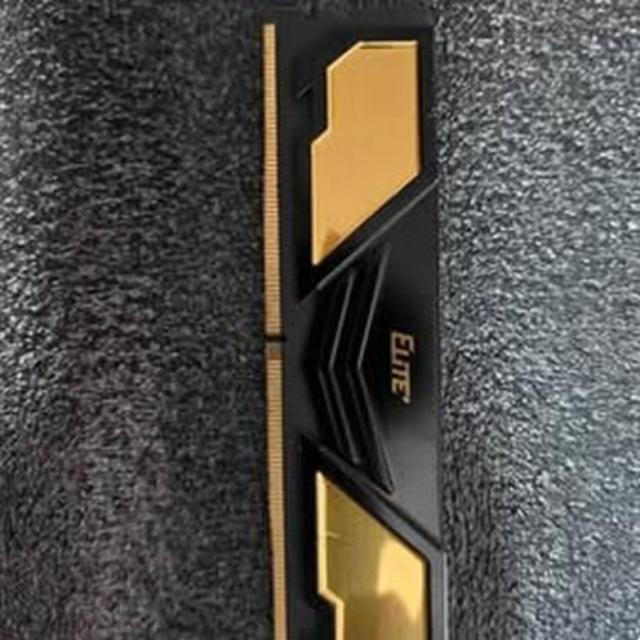RAM: (260, 20, 449, 640)
